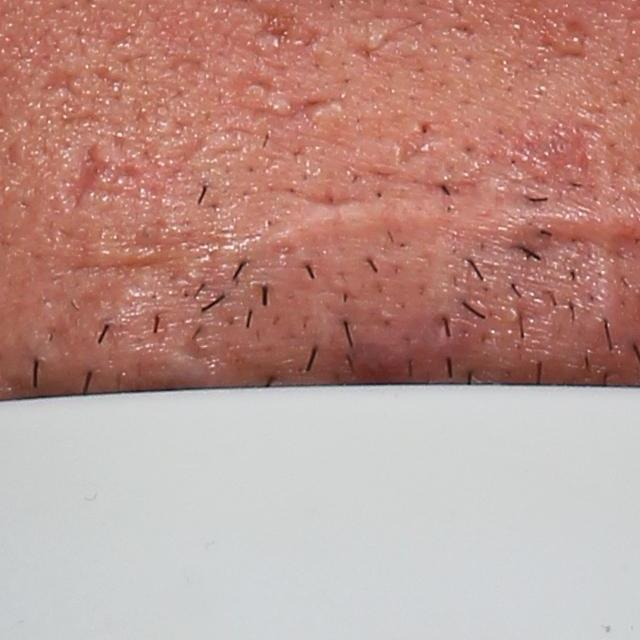atrophic_scar: (66, 142, 124, 213), (391, 117, 454, 167), (548, 15, 600, 67), (298, 96, 355, 124), (37, 66, 82, 99), (233, 70, 282, 97), (348, 40, 391, 65), (55, 108, 104, 129), (449, 20, 480, 42)
